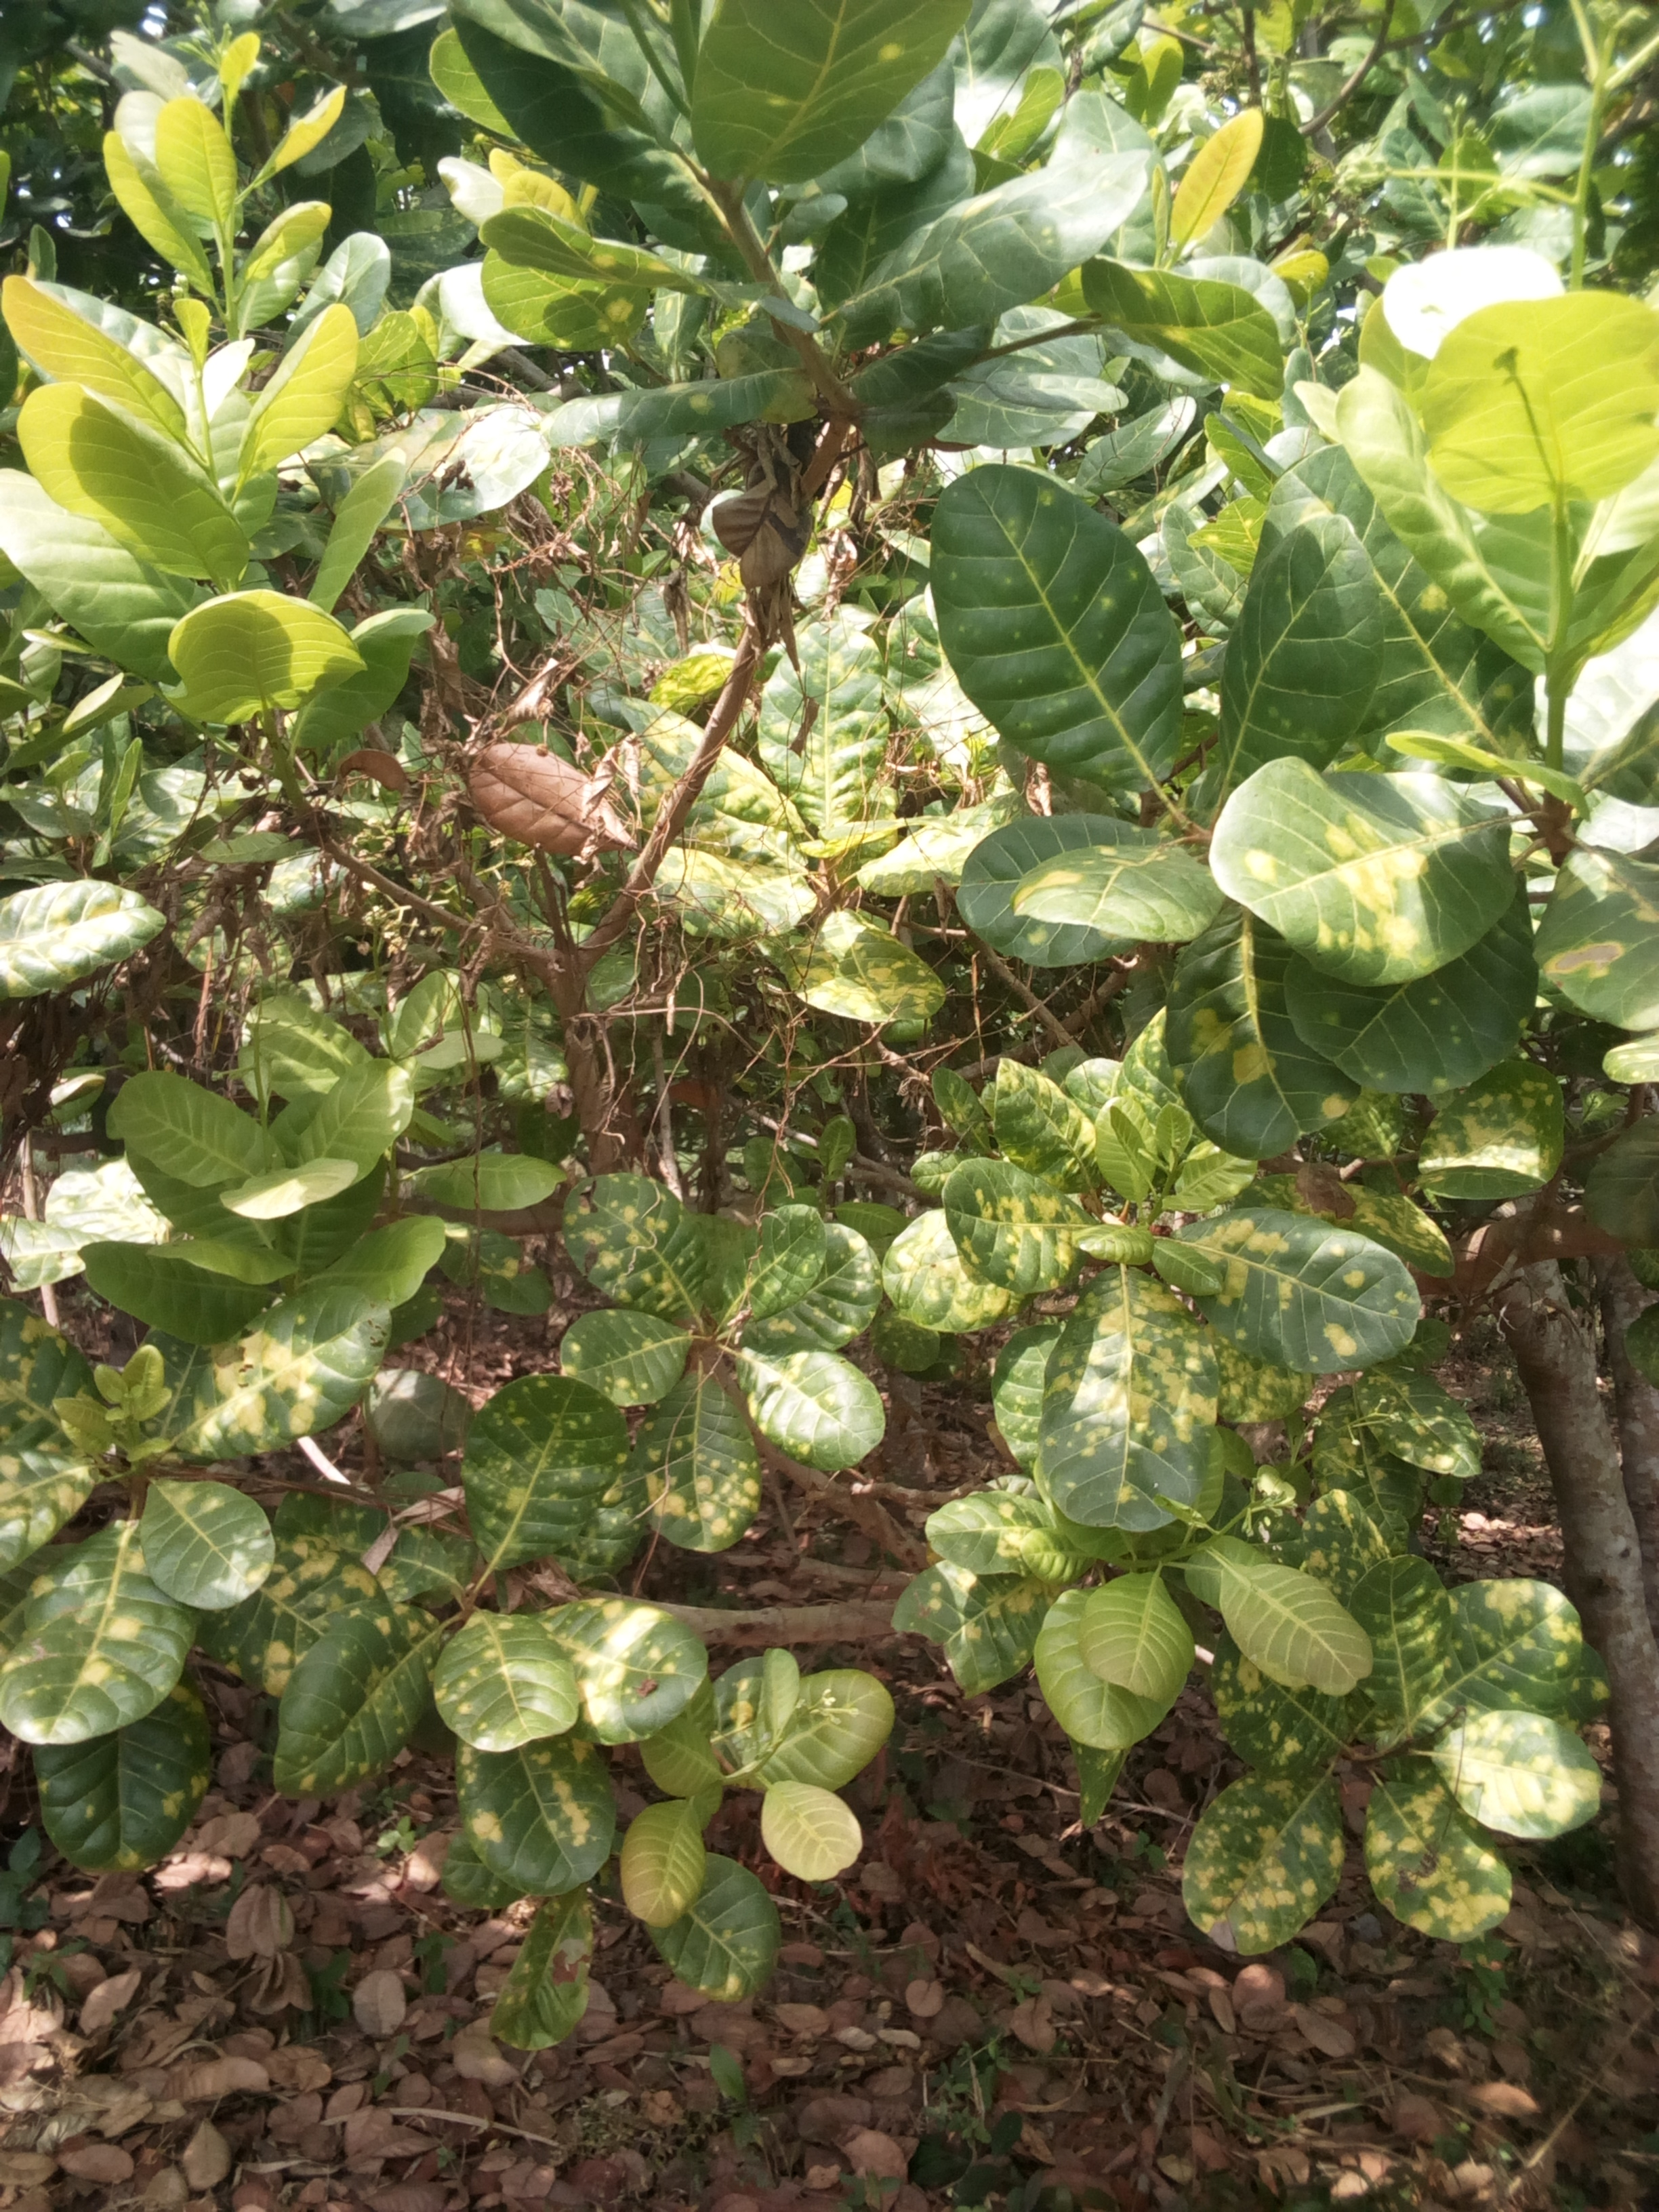Carence minérale: (915, 449, 1209, 787), (1162, 751, 1528, 995), (1019, 1278, 1277, 1547), (1159, 1204, 1471, 1381), (7, 1536, 227, 1766), (758, 604, 901, 862), (1178, 1784, 1371, 1959), (636, 1374, 829, 1547), (728, 1622, 894, 1818), (775, 902, 985, 1052), (423, 1608, 626, 1757), (436, 1750, 650, 1892), (1368, 1784, 1528, 1963), (1446, 1698, 1619, 1844), (549, 1174, 721, 1313), (1368, 1543, 1473, 1773), (134, 1461, 288, 1615), (640, 1851, 798, 1998), (748, 1198, 897, 1346), (1547, 838, 1652, 1049), (938, 1576, 1037, 1747)
